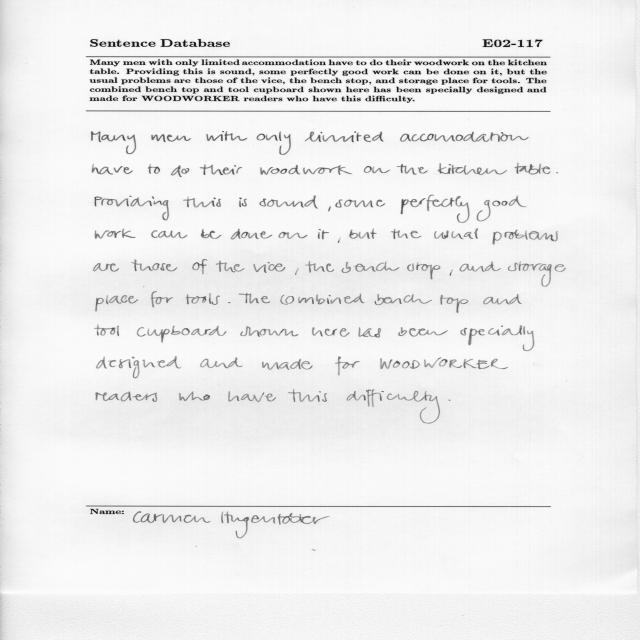word: (347, 390, 440, 424), (401, 195, 470, 223), (461, 325, 535, 351), (97, 357, 181, 379), (95, 196, 169, 220), (380, 358, 508, 370), (137, 326, 227, 343), (508, 261, 566, 287), (400, 132, 529, 142), (132, 260, 178, 288), (477, 196, 526, 221), (91, 131, 136, 154), (492, 230, 558, 245), (280, 294, 365, 305), (261, 165, 353, 175), (305, 132, 384, 143), (438, 163, 507, 175), (260, 195, 319, 209), (257, 131, 291, 155), (96, 295, 138, 312), (342, 261, 400, 273), (96, 391, 157, 402), (240, 326, 298, 337), (375, 294, 432, 305), (407, 263, 441, 280), (262, 359, 313, 370), (228, 391, 276, 402), (288, 389, 327, 402), (440, 295, 468, 313), (398, 327, 448, 337), (335, 357, 360, 376), (200, 358, 243, 369), (459, 261, 501, 272), (92, 164, 133, 175), (231, 229, 272, 240), (434, 229, 478, 239), (515, 163, 551, 175), (200, 165, 242, 175), (207, 131, 248, 141), (95, 229, 136, 239), (186, 293, 220, 305), (336, 200, 386, 208), (483, 294, 522, 304), (183, 197, 221, 207), (312, 327, 350, 337), (150, 292, 173, 308), (254, 262, 286, 273), (305, 261, 334, 273), (151, 134, 191, 142), (239, 293, 271, 303), (397, 164, 428, 174), (349, 228, 377, 239), (216, 261, 244, 272), (391, 229, 421, 239), (151, 231, 187, 239), (179, 392, 210, 401), (95, 325, 119, 336), (359, 327, 381, 338), (93, 263, 119, 272), (192, 260, 207, 275), (171, 165, 189, 177), (279, 232, 308, 239), (201, 229, 221, 239), (364, 166, 390, 173), (148, 164, 160, 174), (318, 229, 329, 239), (239, 198, 247, 207), (295, 268, 299, 275), (450, 270, 453, 276), (328, 207, 331, 212), (338, 238, 341, 243), (556, 173, 559, 174), (228, 302, 231, 303), (449, 400, 451, 401)
